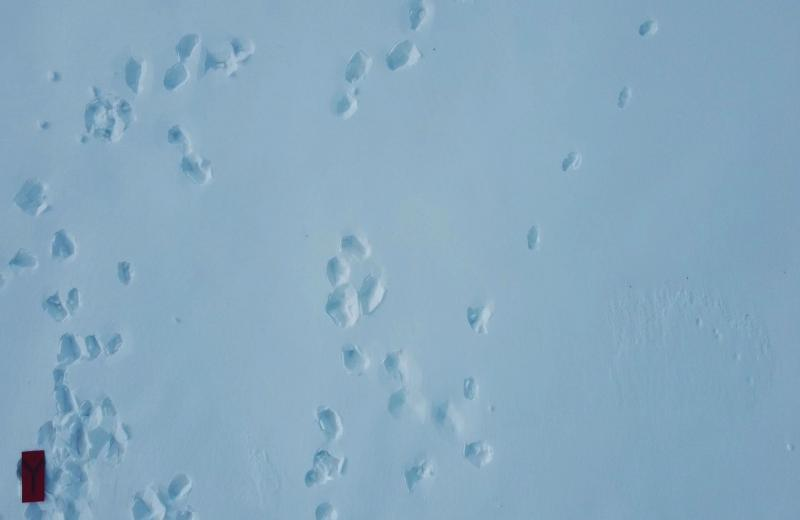Rectangle: (20, 448, 47, 505)
